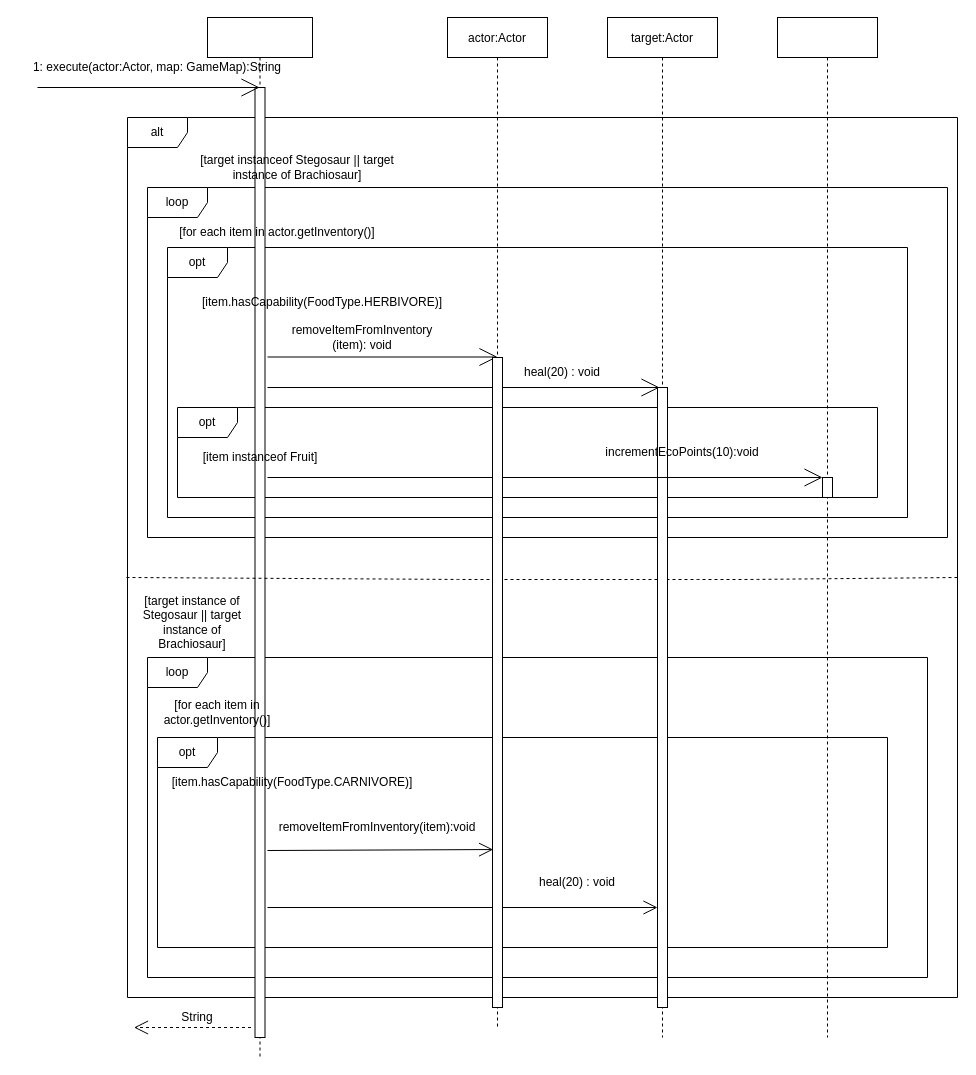
Some shapes in this 976 by 1075 pixel diagram are drawn without their labels. Here are the shapes that lost their labels. From the top down, the box of each, then its label:
(206, 16, 312, 1058): :PlayerFeedAction
(776, 16, 878, 1038): :EcoPoints
